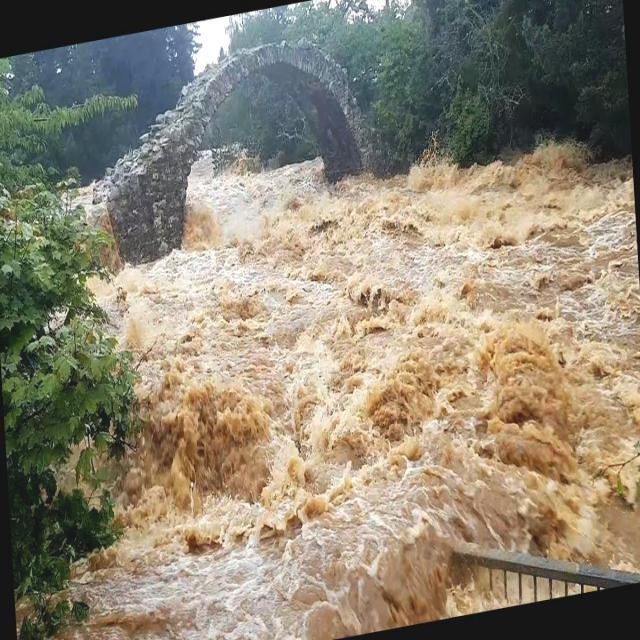flood: (77, 101, 639, 639)
